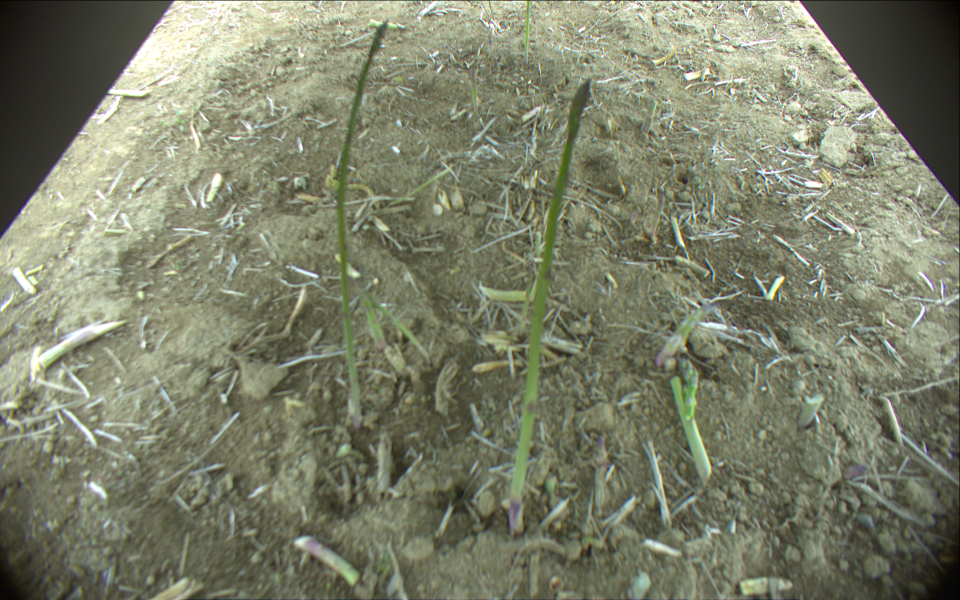aspa: (508, 79, 594, 532), (336, 19, 391, 416), (668, 372, 715, 485), (654, 298, 716, 368), (293, 537, 358, 582), (354, 262, 388, 348), (516, 272, 536, 340), (479, 284, 542, 302), (523, 1, 535, 66), (368, 18, 403, 30)
